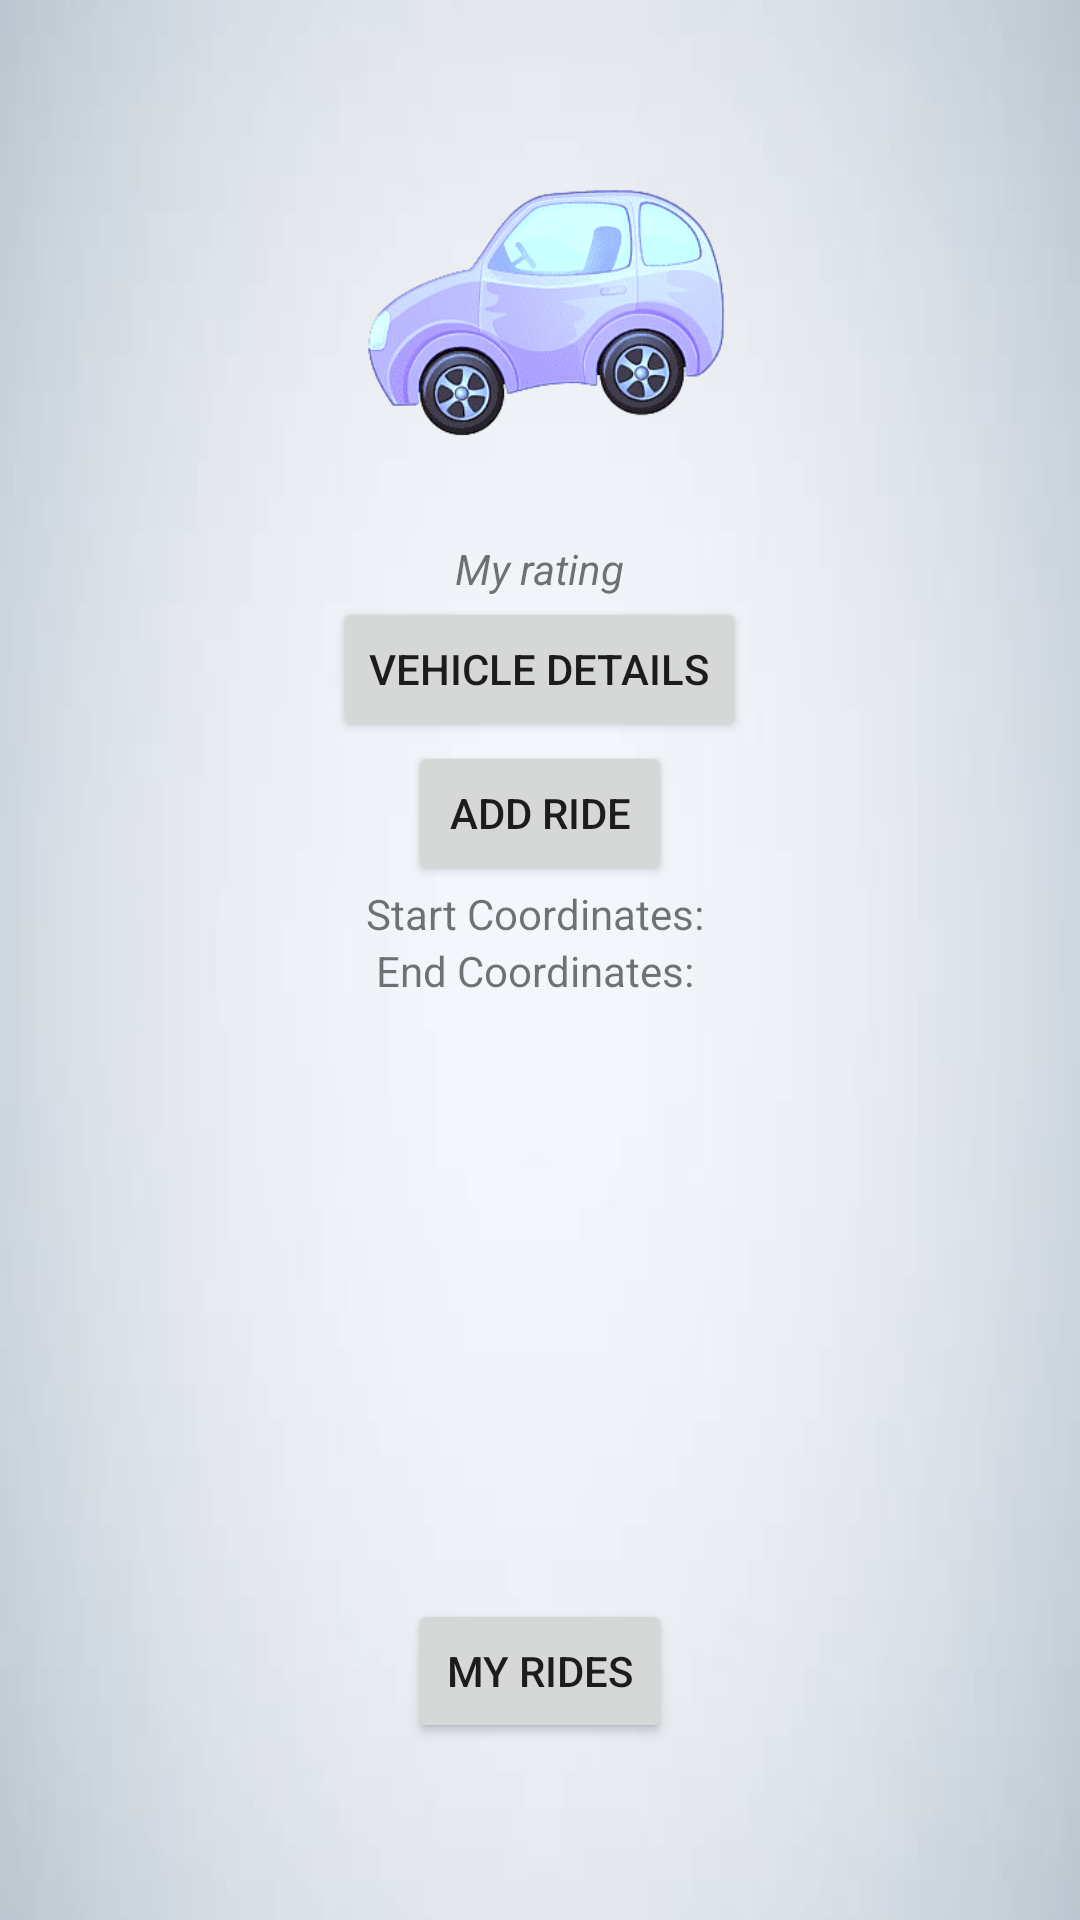

Icon bounding boxes for this 1080 x 1920 phone screenshot, format (x1, y1, x2, y2):
vroom: (368, 190, 724, 435)
